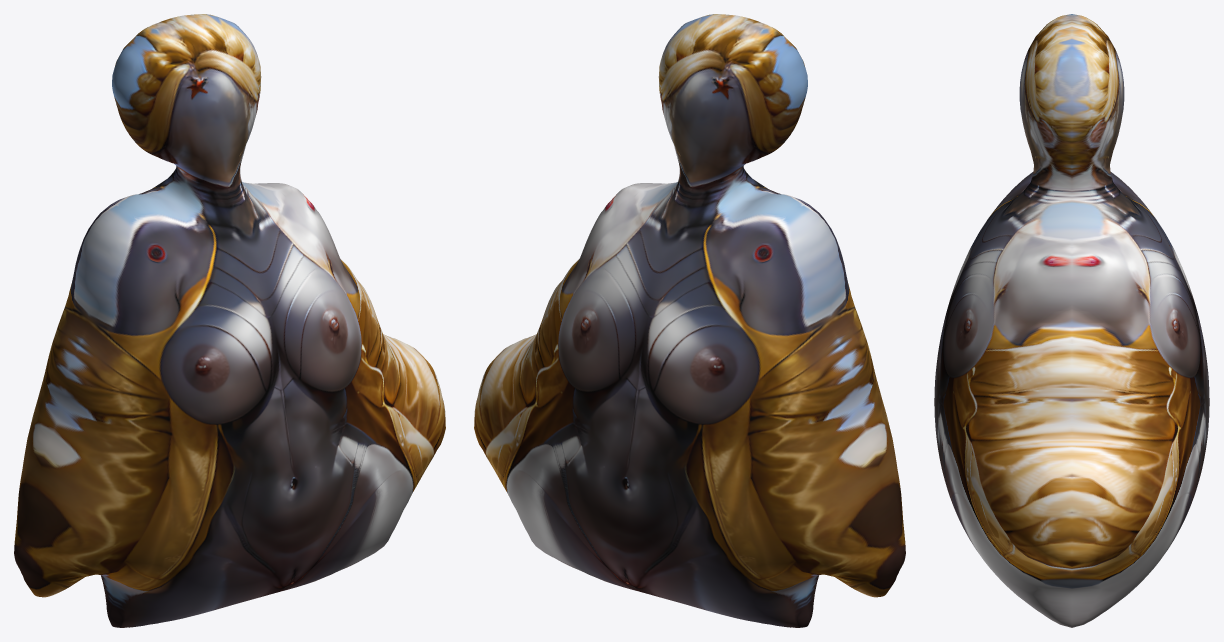
File: palibruha.glb
3 renders of one model, left to right at view 1: azimuth 30°, elevation 25°; view 2: azimuth 150°, elevation 25°; view 3: azimuth 270°, elevation 25°, orthographic. The views are drawn at different scales.
Parts seen in each view (by area): view 1: mm_frame; view 2: mm_frame; view 3: mm_frame.
Boxes of the visible parts, <box> form: mm_frame: <box>14,14,445,627</box>; mm_frame: <box>474,14,905,627</box>; mm_frame: <box>934,14,1209,627</box>.
Size of the model in its own units: 5.08 by 6.83 by 3.17.
1 material, 1 textured.
